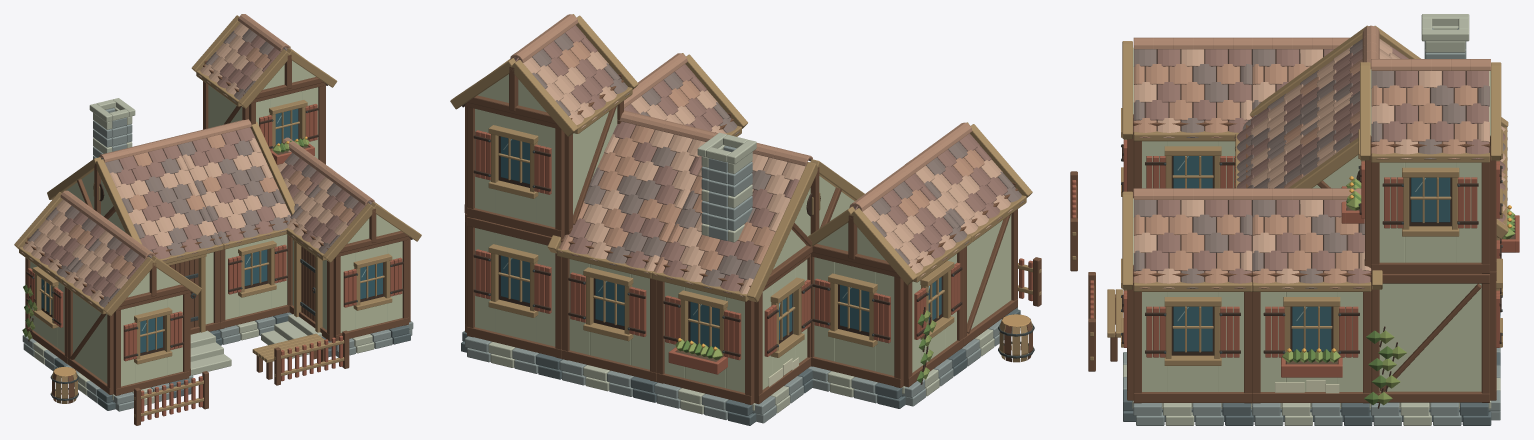
File: family_cluster_default.glb
The picture shows the model from 3 angles, left to right: view 1: azimuth 30°, elevation 25°; view 2: azimuth 150°, elevation 25°; view 3: azimuth 270°, elevation 25°; orthographic projection. The views are drawn at different scales.
Parts seen in each view (by area): view 1: roof_gable_4x2m__finish, roof_gable_4x2m__finish.001, roof_gable_2x2m__finish.001, roof_gable_2x2m__finish.004, roof_gable_2x2m__finish, roof_gable_2x2m__finish.002, wall_window_2m__finish.008, wall_window_2m__finish, wall_window_2m__structure.008, wall_window_2m__structure, wall_window_2m__finish.006, wall_window_2m__structure.006 (+41 smaller); view 2: roof_gable_4x2m__finish, roof_gable_4x2m__finish.001, roof_gable_2x2m__finish, roof_gable_2x2m__finish.001, roof_gable_2x2m__finish.004, wall_window_2m__finish.014, wall_window_2m__finish.002, wall_window_2m__finish.011, wall_window_2m__structure.011, wall_window_2m__structure.014, wall_window_2m__finish.007, wall_window_2m__structure.002 (+38 smaller); view 3: roof_gable_2x2m__finish.002, roof_gable_2x2m__finish.004, roof_gable_2x2m__finish, roof_gable_2x2m__finish.003, wall_plain_2m__finish.001, wall_window_2m__finish.013, wall_window_2m__finish.009, roof_gable_4x2m__finish.001, wall_window_2m__finish.010, wall_window_2m__structure.013, wall_window_2m__structure.009, wall_window_2m__structure.010 (+35 smaller).
Boxes of the visible parts, x1,y1,x2,y2 form: roof_gable_4x2m__finish: [174, 119, 290, 245]; roof_gable_4x2m__finish.001: [99, 137, 221, 260]; roof_gable_2x2m__finish.001: [20, 190, 109, 279]; roof_gable_2x2m__finish.004: [198, 14, 290, 102]; roof_gable_2x2m__finish: [63, 221, 155, 310]; roof_gable_2x2m__finish.002: [287, 168, 374, 258]; wall_window_2m__finish.008: [340, 241, 402, 332]; wall_window_2m__finish: [121, 295, 182, 386]; wall_window_2m__structure.008: [333, 236, 408, 340]; wall_window_2m__structure: [113, 290, 189, 395]; wall_window_2m__finish.006: [225, 234, 287, 319]; wall_window_2m__structure.006: [219, 220, 289, 329]; roof_gable_4x2m__finish: [559, 110, 715, 273]; roof_gable_4x2m__finish.001: [654, 133, 812, 296]; roof_gable_2x2m__finish: [908, 122, 1024, 237]; roof_gable_2x2m__finish.001: [849, 163, 969, 277]; roof_gable_2x2m__finish.004: [510, 14, 629, 128]; wall_window_2m__finish.014: [475, 109, 555, 227]; wall_window_2m__finish.002: [814, 257, 894, 375]; wall_window_2m__finish.011: [475, 228, 555, 346]; wall_window_2m__structure.011: [467, 217, 562, 358]; wall_window_2m__structure.014: [467, 102, 564, 239]; wall_window_2m__finish.007: [569, 259, 649, 369]; wall_window_2m__structure.002: [811, 252, 903, 388]; roof_gable_2x2m__finish.002: [1133, 188, 1252, 288]; roof_gable_2x2m__finish.004: [1371, 59, 1490, 159]; roof_gable_2x2m__finish: [1133, 37, 1252, 137]; roof_gable_2x2m__finish.003: [1252, 188, 1371, 288]; wall_plain_2m__finish.001: [1379, 283, 1481, 391]; wall_window_2m__finish.013: [1379, 162, 1481, 262]; wall_window_2m__finish.009: [1142, 292, 1243, 391]; roof_gable_4x2m__finish.001: [1234, 25, 1507, 177]; wall_window_2m__finish.010: [1260, 292, 1362, 391]; wall_window_2m__structure.013: [1371, 142, 1489, 273]; wall_window_2m__structure.009: [1133, 271, 1252, 403]; wall_window_2m__structure.010: [1252, 271, 1371, 403].
Bounding box in the file's own units: 9.53 × 6.27 × 7.56.
